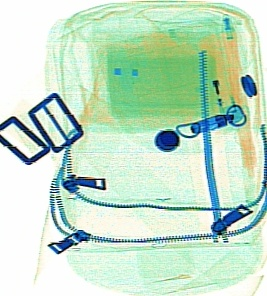lighter: (197, 32, 241, 125)
